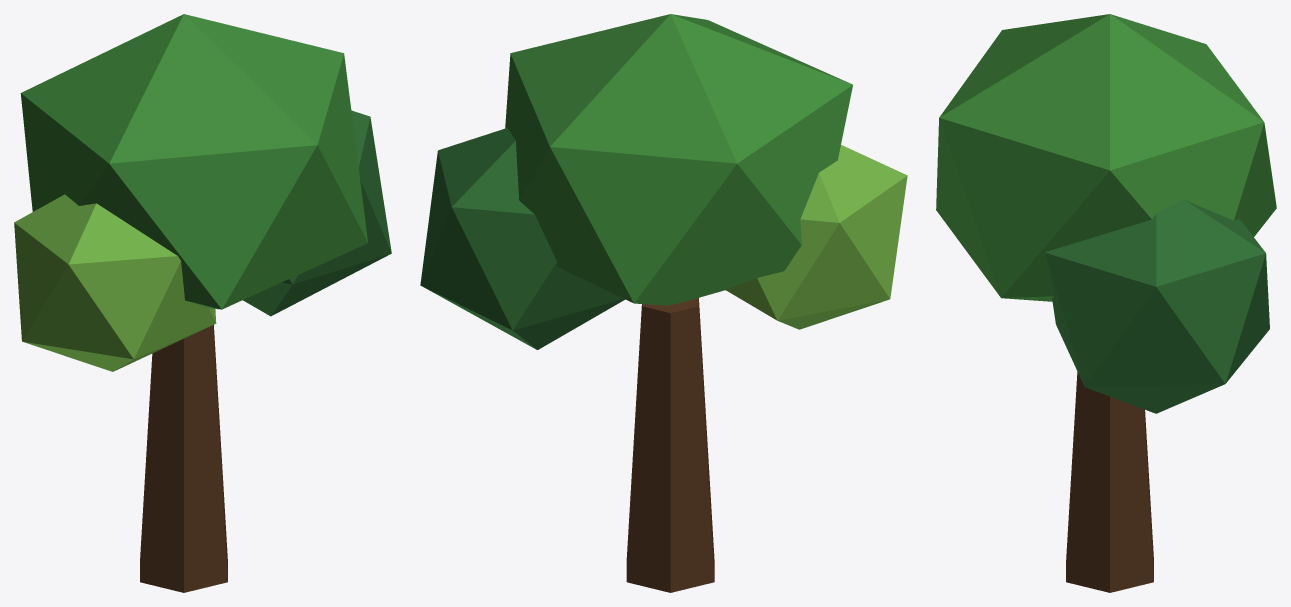
Rendered from tree_oak.glb.
The picture shows the model from 3 angles, left to right: view 1: azimuth 30°, elevation 25°; view 2: azimuth 150°, elevation 25°; view 3: azimuth 270°, elevation 25°; orthographic projection.
Parts seen in each view (by area): view 1: tree_oak; view 2: tree_oak; view 3: tree_oak.
Part boxes in pixels (left/top/right/bottom): tree_oak: left=14, top=14, right=391, bottom=592; tree_oak: left=420, top=14, right=907, bottom=592; tree_oak: left=936, top=14, right=1276, bottom=592.
Bounding box in the file's own units: 2 × 2.66 × 1.48.
